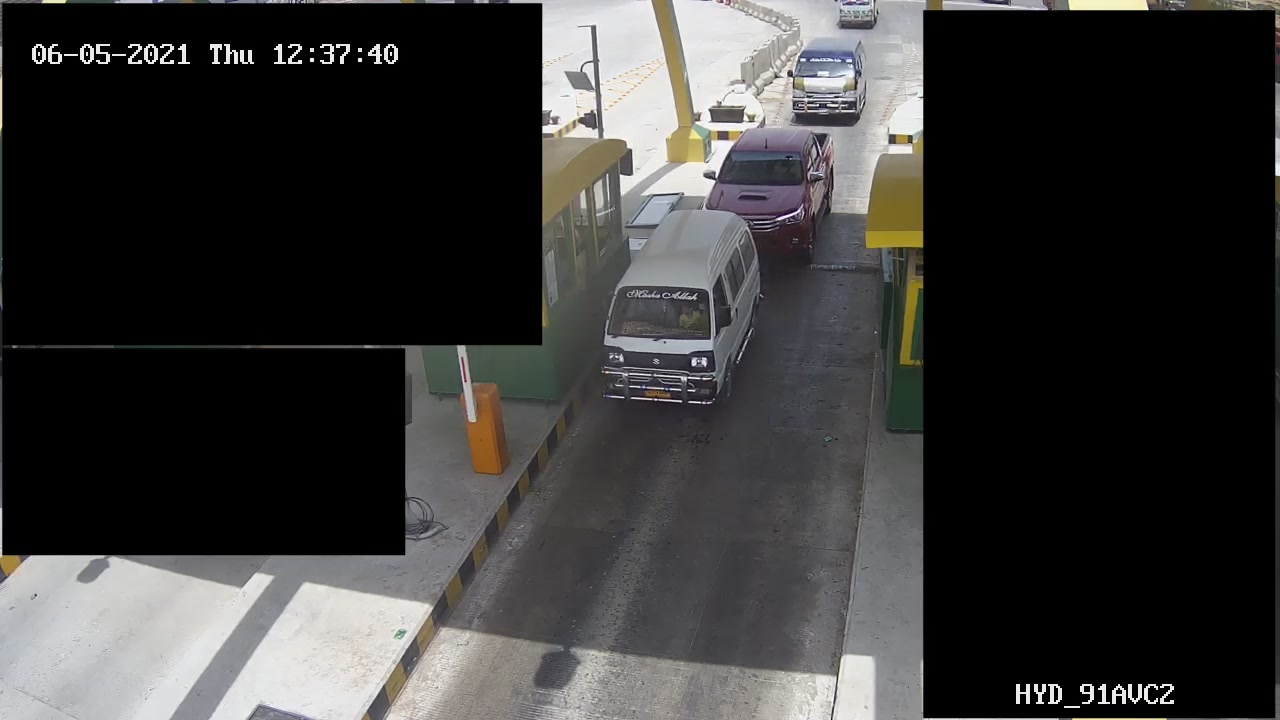F1: (595, 201, 765, 411), (704, 120, 837, 270)
